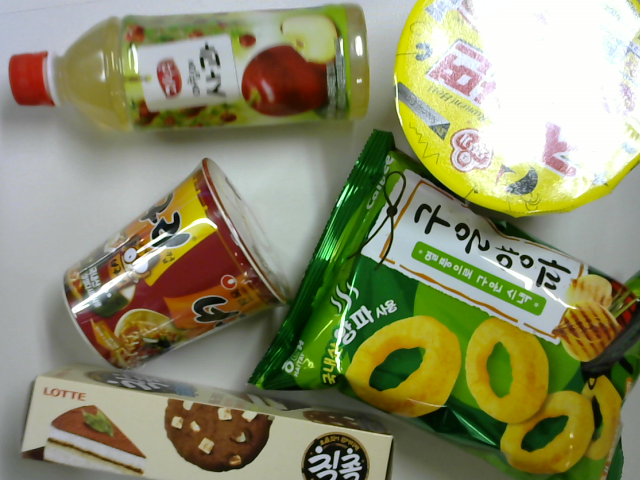Chicchok_Tiramisu: (5, 367, 408, 476)
Grilled_Onions: (253, 132, 635, 480)
Jinlamyeon_Hot_Taste_Large_Cup: (382, 1, 640, 228)
Morning_Apple_500ml: (1, 4, 377, 141)
Raccoon: (53, 157, 287, 375)
